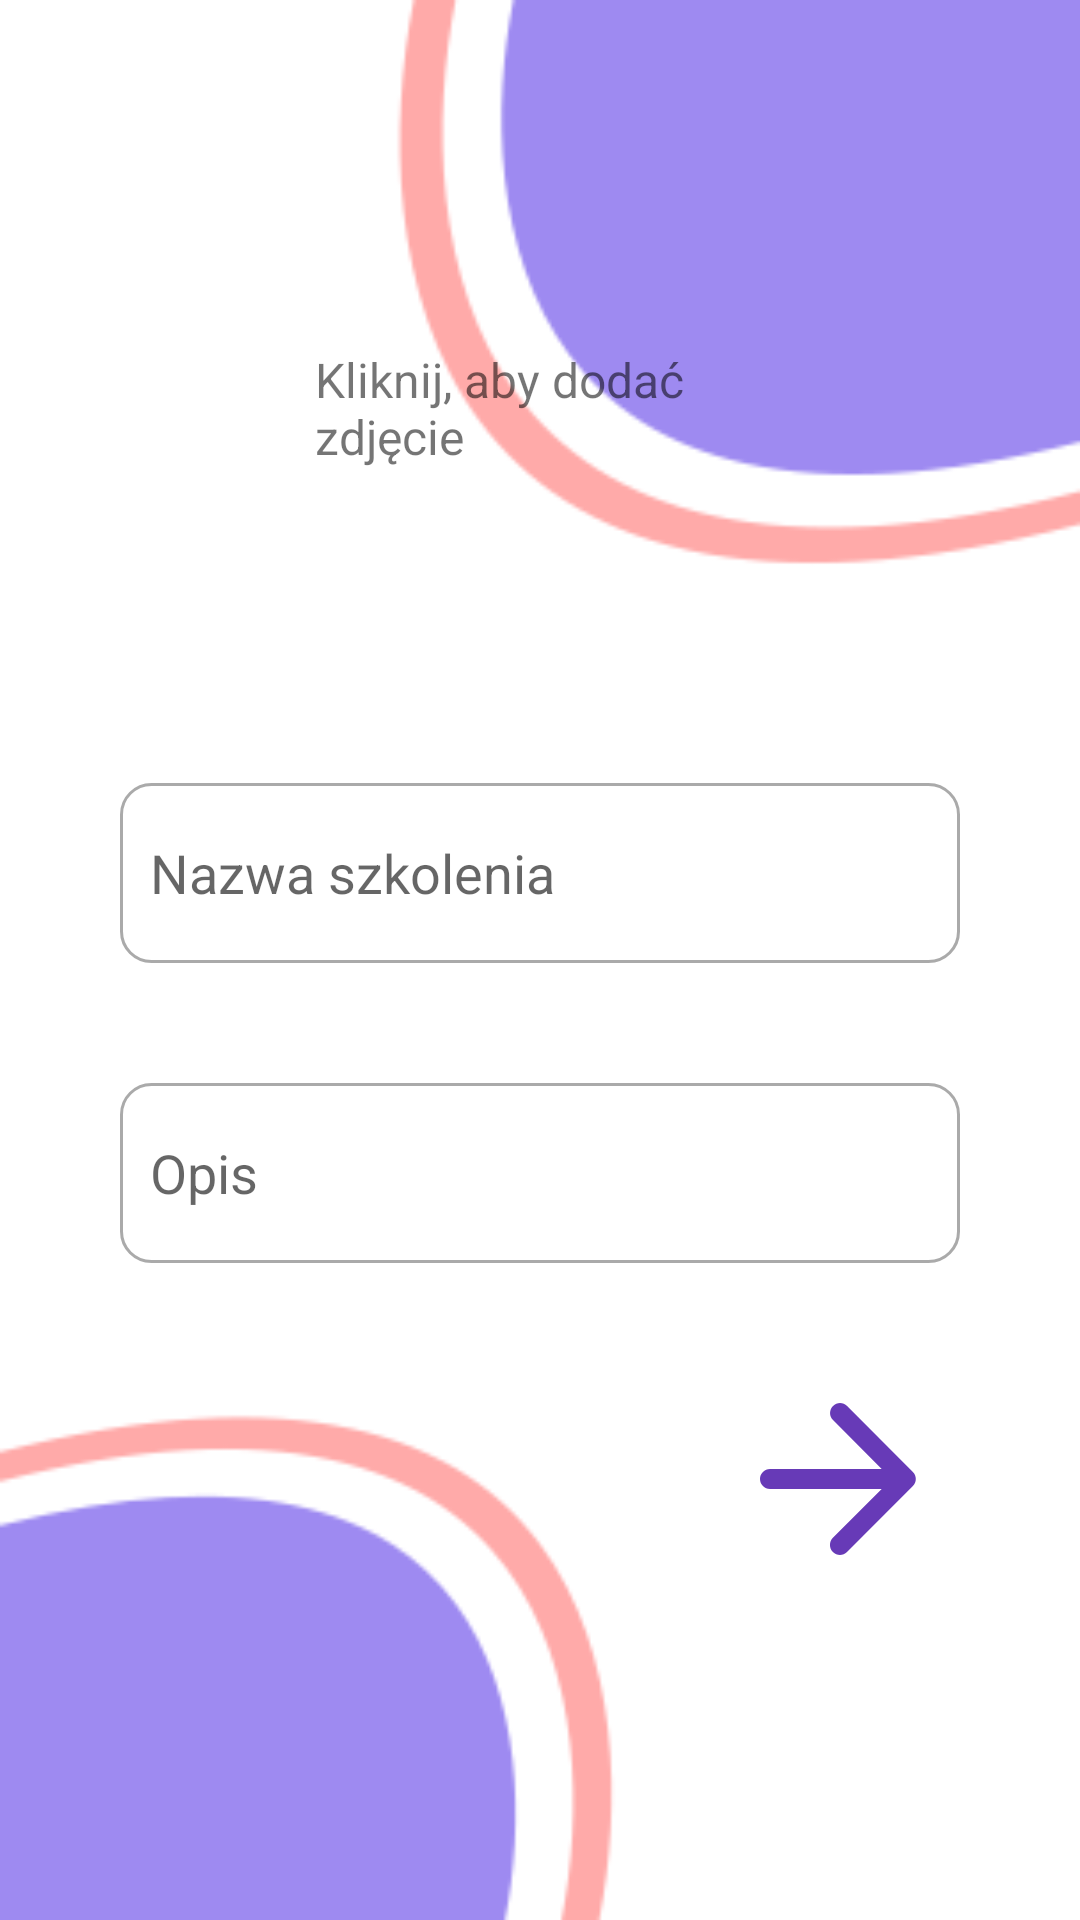

Screen size 1080x1920. Icon name, then its box in pixels as bbox=(x1, y1, x2, y2):
login arrow: bbox=(760, 1403, 916, 1555)
